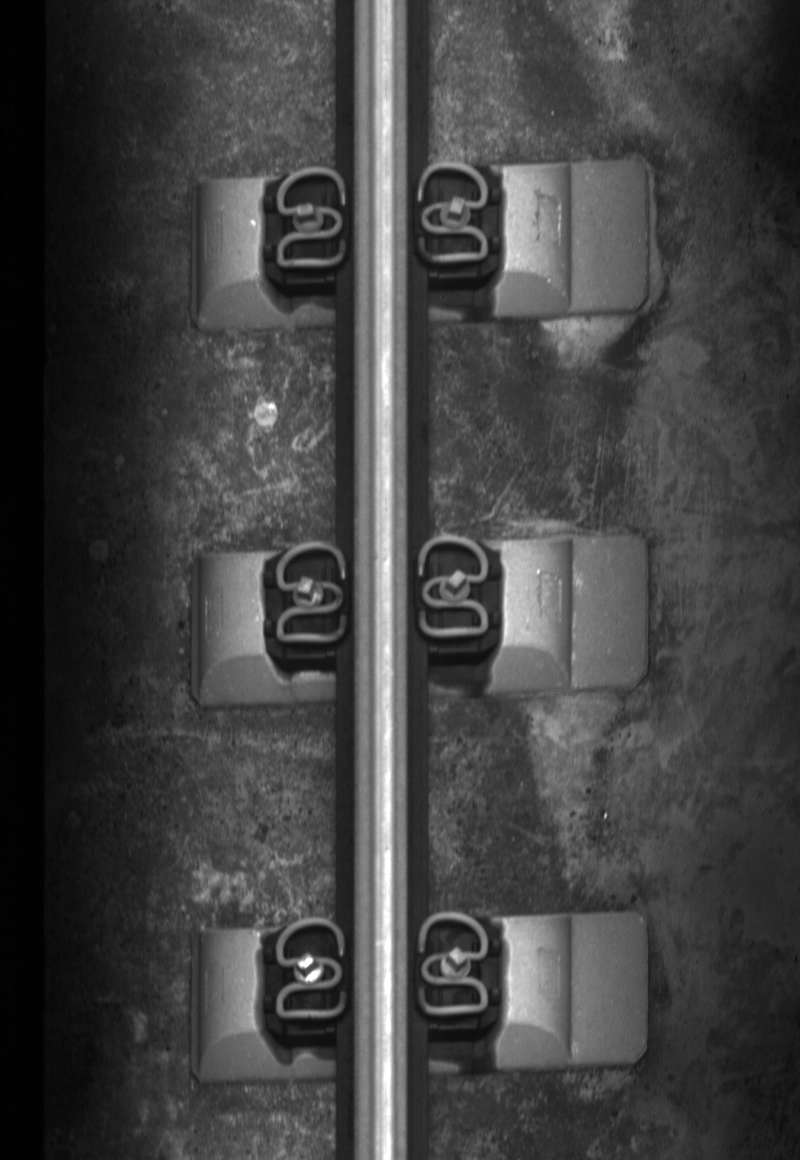l_faster: (268, 911, 351, 1027), (268, 159, 349, 274), (270, 536, 351, 650)
r_faster: (409, 154, 495, 272), (414, 906, 493, 1023), (412, 532, 492, 642)
